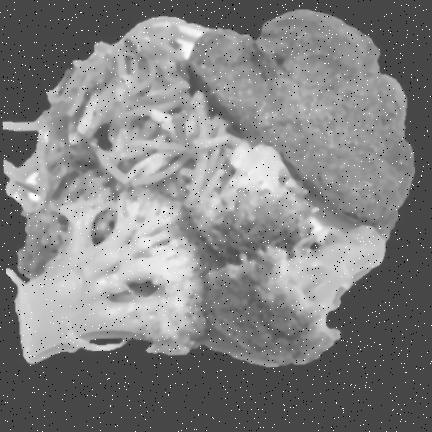broccoli: (6, 146, 383, 364)
carrot: (3, 17, 237, 212)
meat: (187, 11, 414, 226)
